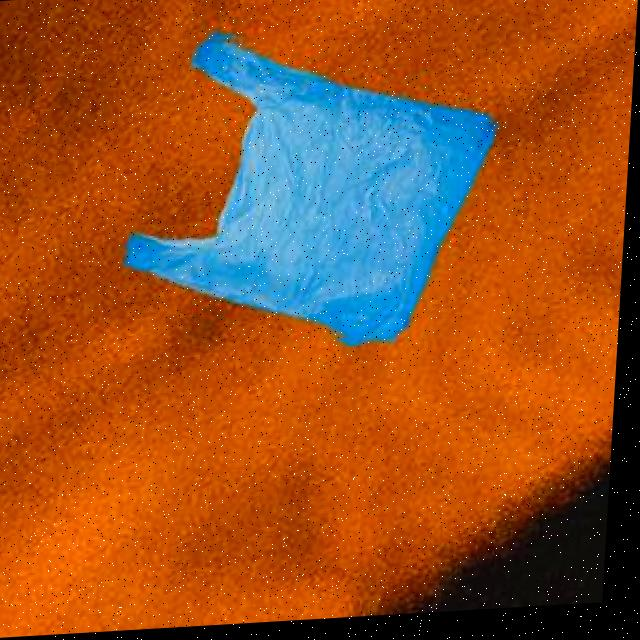litter: (110, 17, 520, 360)
